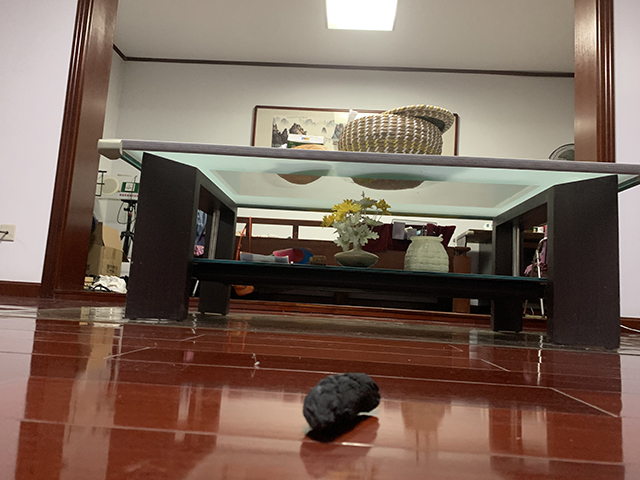bed: (235, 214, 472, 317)
feces: (301, 369, 382, 442)
table: (95, 137, 640, 350)
